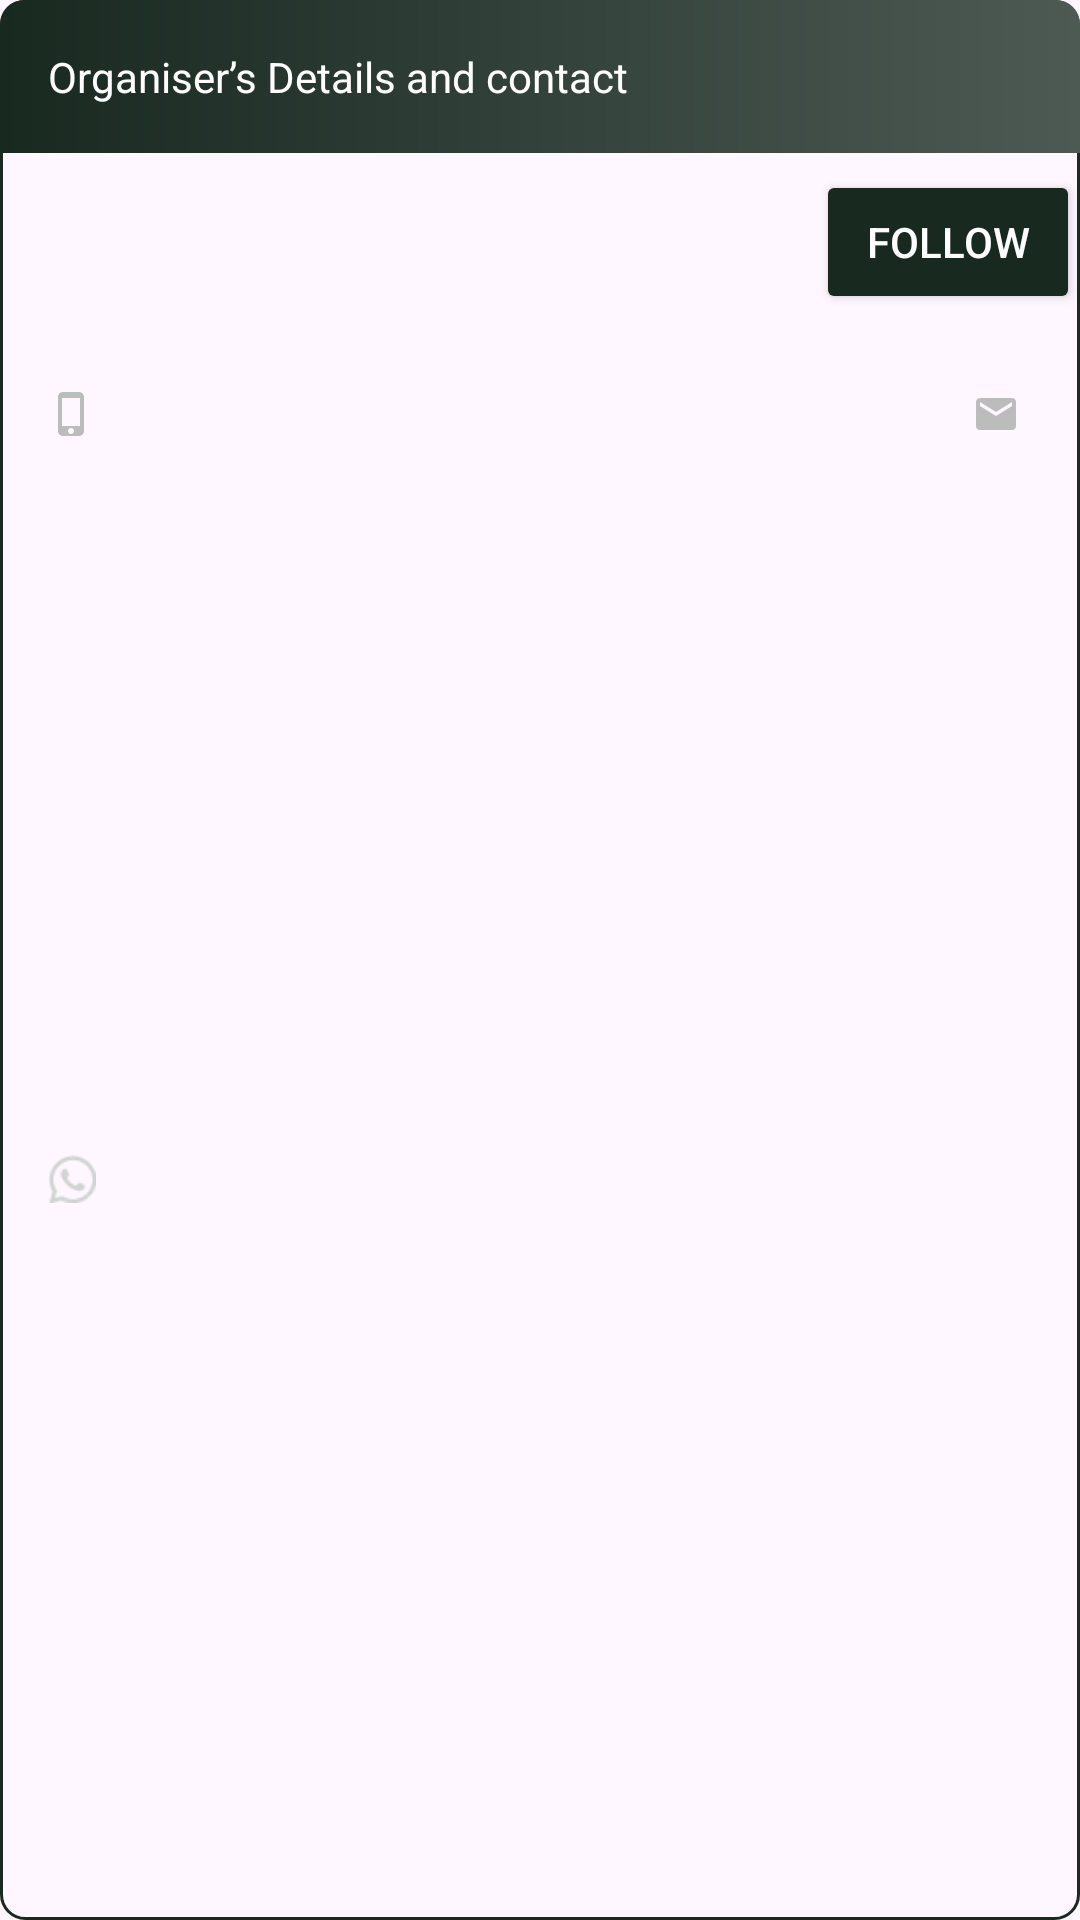

Point at icon controls on the screen. Image size 1080x1920, points as point (x, y).
email: point (996, 414)
phone iphone: point (71, 414)
